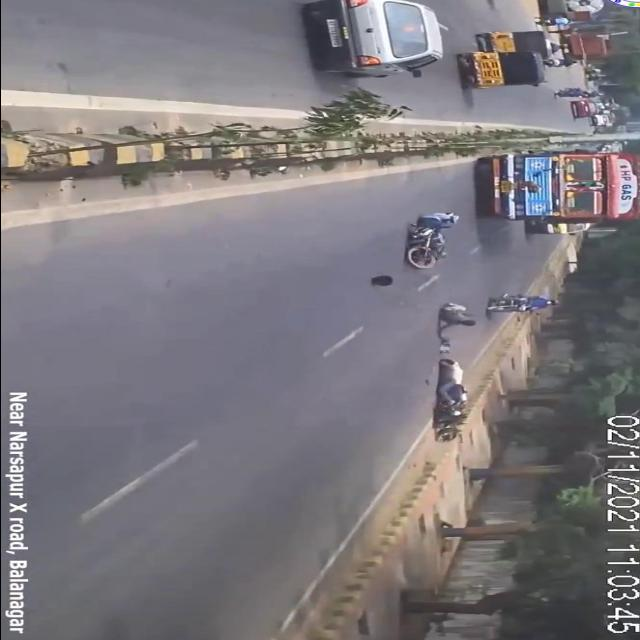accident: (422, 297, 482, 444), (394, 206, 470, 274)
non_accident: (480, 150, 640, 238), (440, 20, 572, 96), (559, 97, 640, 135)
